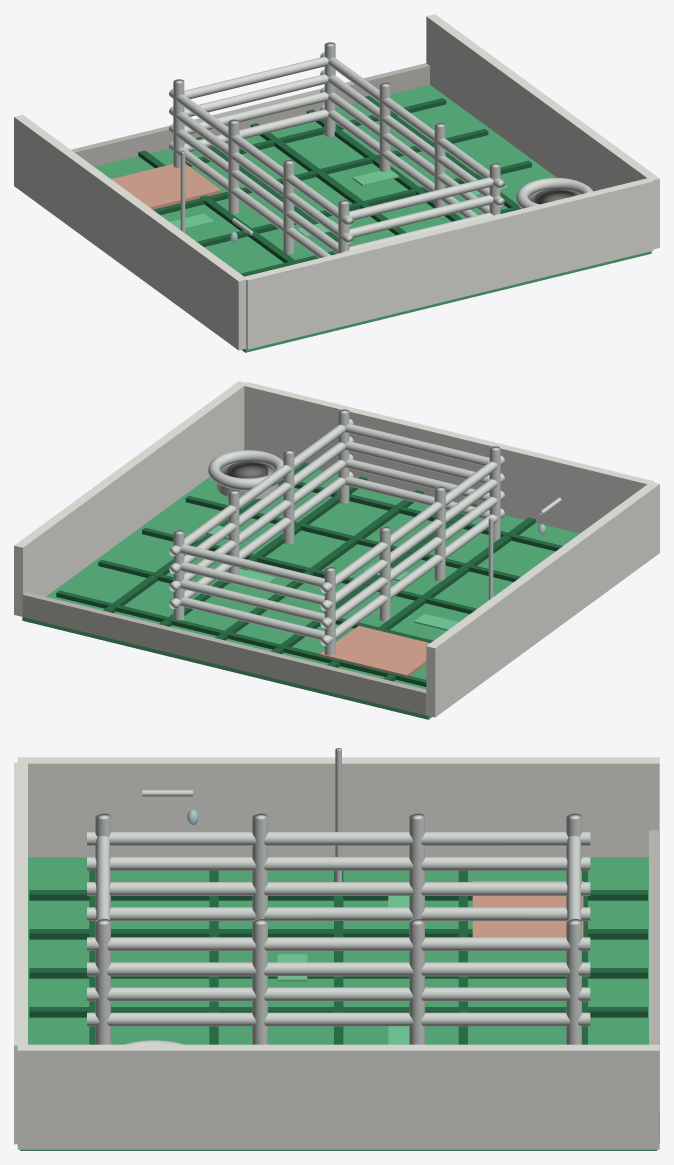
File: farrowing_crate.glb
3 views of the same model, one above another, from view 1: azimuth 30°, elevation 25°; view 2: azimuth 150°, elevation 25°; view 3: azimuth 270°, elevation 25° (orthographic). The views are drawn at different scales.
Parts seen in each view (by area): view 1: crate-01-outer-divider, crate-01-green-floor, crate-01-left-divider, crate-01-right-divider, crate-01-low-curb, crate-01-heat-pad, crate-01-rail-left-1.56, crate-01-rail-left-1.26, crate-01-rail-right-1.56, crate-01-rail-left-0.96, crate-01-rail-right-1.26, crate-01-rail-left-0.66 (+24 smaller); view 2: crate-01-green-floor, crate-01-outer-divider, crate-01-left-divider, crate-01-right-divider, crate-01-low-curb, crate-01-heat-pad, crate-01-floor-slot-z--2.65, crate-01-rail-left-1.56, crate-01-rail-left-1.26, crate-01-rail-left-0.96, crate-01-rail-left-0.66, crate-01-rail-right-1.56 (+30 smaller); view 3: crate-01-right-divider, crate-01-left-divider, crate-01-green-floor, crate-01-rail-right-1.26, crate-01-rail-right-0.96, crate-01-rail-right-0.66, crate-01-rail-right-1.56, crate-01-rail-left-1.56, crate-01-rail-left-0.96, crate-01-rail-left-1.26, crate-01-rail-left-0.66, crate-01-outer-divider (+19 smaller).
Boxes of the visible parts, x1,y1,x2,y2 form: crate-01-outer-divider: [243, 178, 653, 349]; crate-01-green-floor: [94, 84, 651, 352]; crate-01-left-divider: [14, 115, 246, 350]; crate-01-right-divider: [426, 14, 659, 249]; crate-01-low-curb: [71, 63, 429, 166]; crate-01-heat-pad: [111, 164, 221, 209]; crate-01-rail-left-1.56: [169, 88, 353, 226]; crate-01-rail-left-1.26: [169, 106, 353, 243]; crate-01-rail-right-1.56: [320, 51, 504, 189]; crate-01-rail-left-0.96: [169, 124, 348, 253]; crate-01-rail-right-1.26: [320, 69, 504, 206]; crate-01-rail-left-0.66: [169, 141, 330, 258]; crate-01-green-floor: [22, 465, 579, 719]; crate-01-outer-divider: [244, 382, 653, 533]; crate-01-left-divider: [426, 482, 659, 717]; crate-01-right-divider: [14, 381, 246, 616]; crate-01-low-curb: [22, 592, 426, 715]; crate-01-heat-pad: [320, 625, 429, 676]; crate-01-floor-slot-z--2.65: [56, 590, 426, 686]; crate-01-rail-left-1.56: [320, 455, 504, 593]; crate-01-rail-left-1.26: [320, 473, 504, 610]; crate-01-rail-left-0.96: [320, 491, 504, 628]; crate-01-rail-left-0.66: [320, 508, 504, 646]; crate-01-rail-right-1.56: [169, 418, 353, 556]; crate-01-right-divider: [17, 1044, 659, 1149]; crate-01-left-divider: [17, 757, 659, 857]; crate-01-green-floor: [20, 857, 657, 1150]; crate-01-rail-right-1.26: [87, 962, 590, 976]; crate-01-rail-right-0.96: [87, 987, 590, 1001]; crate-01-rail-right-0.66: [87, 1012, 590, 1026]; crate-01-rail-right-1.56: [87, 937, 590, 950]; crate-01-rail-left-1.56: [87, 832, 590, 845]; crate-01-rail-left-0.96: [87, 882, 590, 895]; crate-01-rail-left-1.26: [87, 857, 590, 870]; crate-01-rail-left-0.66: [87, 907, 590, 920]; crate-01-outer-divider: [14, 762, 27, 1144].
Size of the model in its own units: 7.52 by 1.82 by 7.
